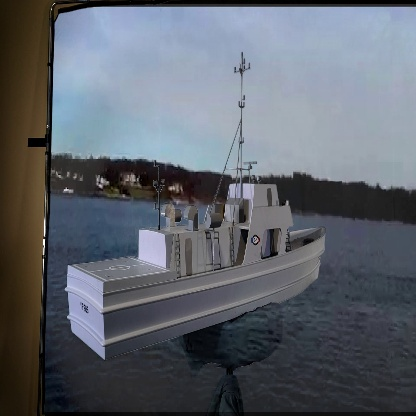YP689: (66, 54, 327, 359)
